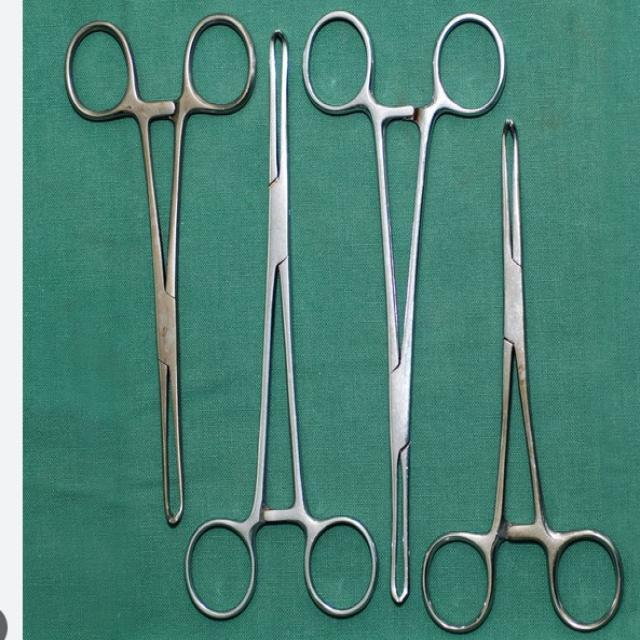Allis Forceps: (301, 5, 510, 621), (183, 23, 394, 619), (422, 117, 636, 635), (63, 8, 262, 532)
